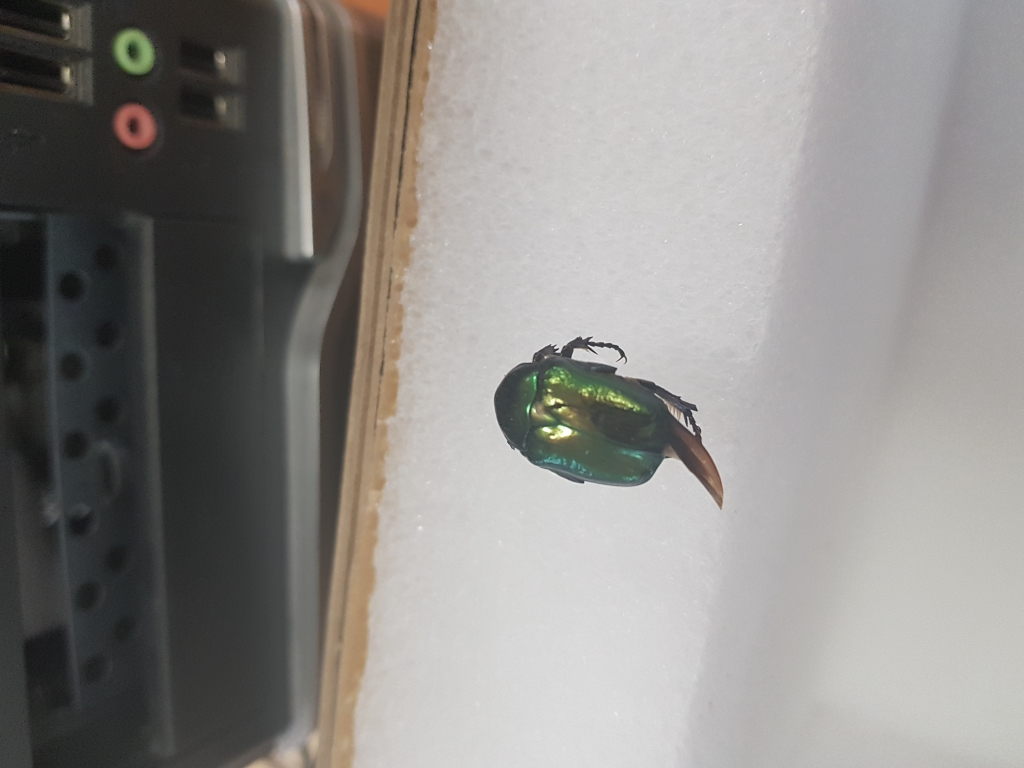Protaetia_angustata_angustata: (468, 330, 731, 512)
